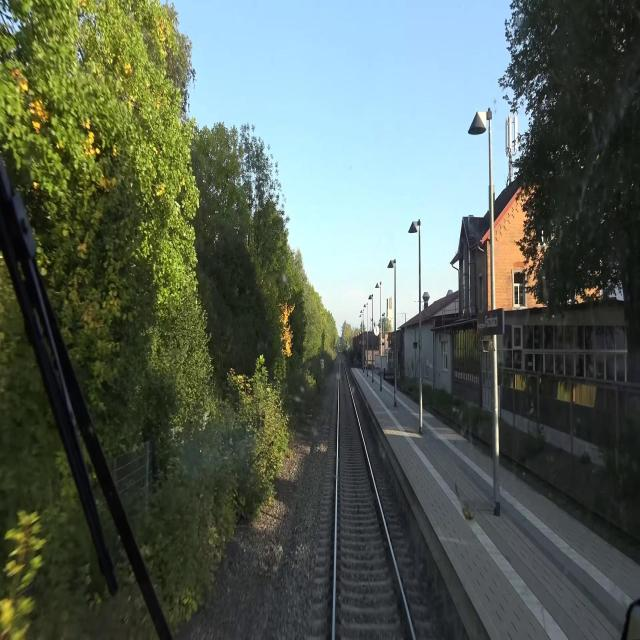rail-track: (337, 360, 411, 639)
